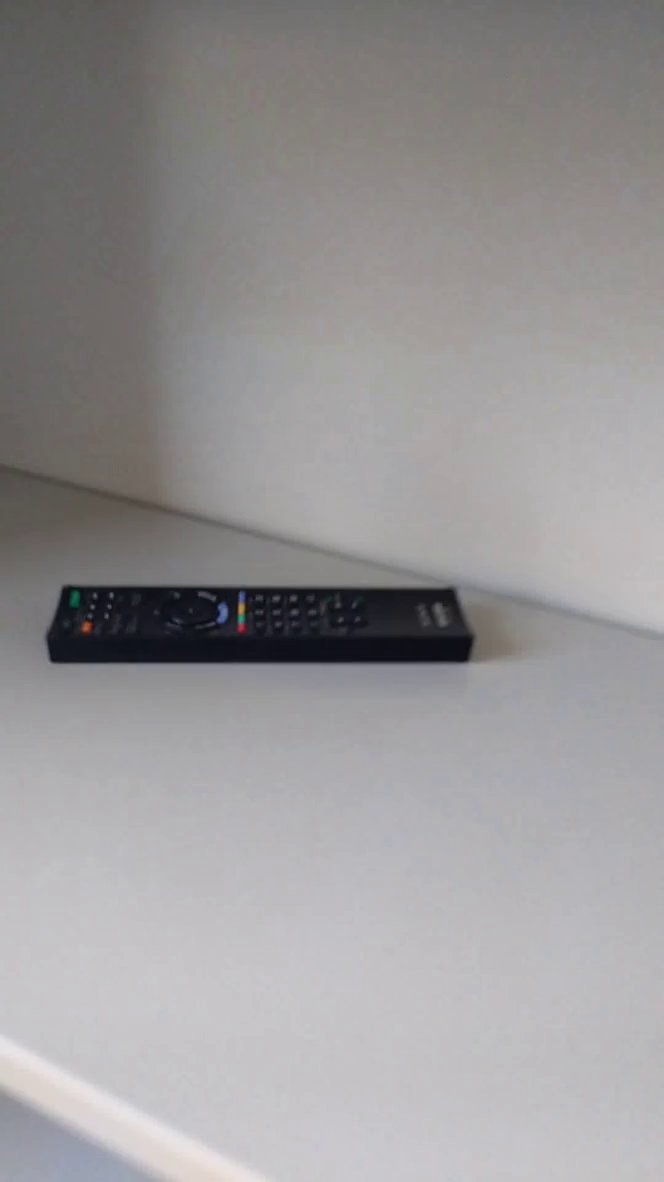remote: (19, 553, 503, 700)
